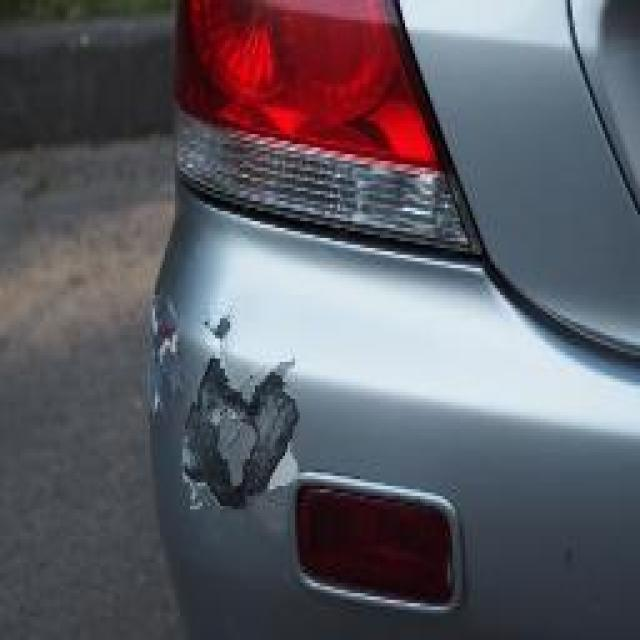Bumper: (120, 231, 362, 553)
